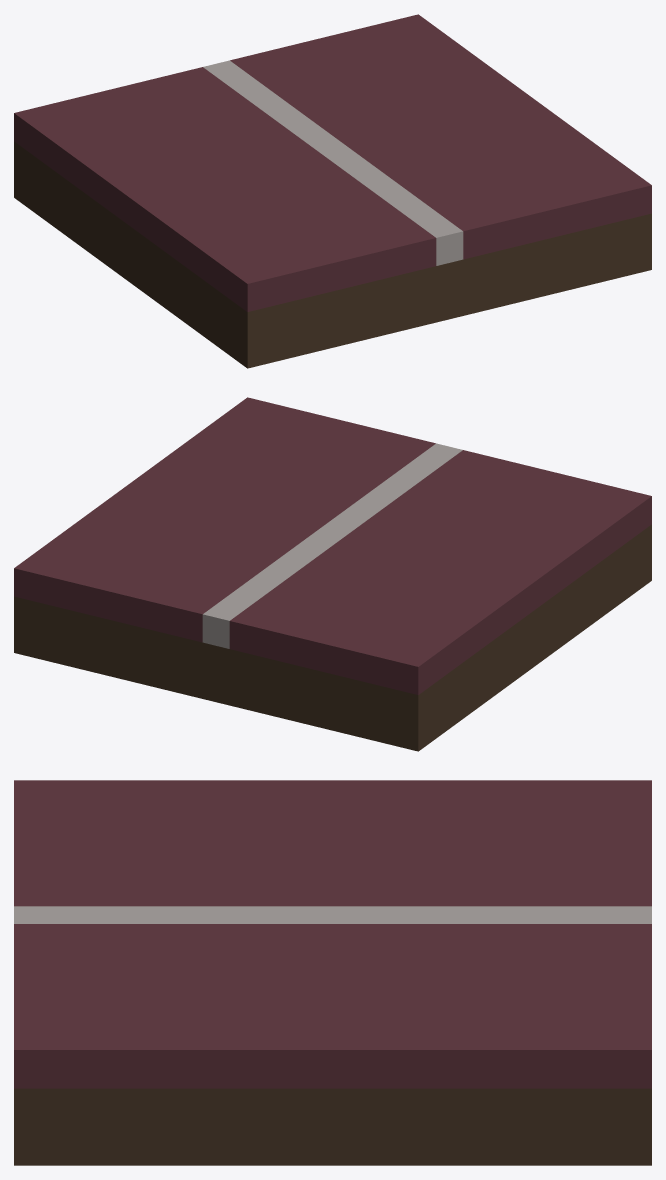
File: tiles-tile-sidewalk-straight.glb
3 views of the same model, one above another, from view 1: azimuth 30°, elevation 25°; view 2: azimuth 150°, elevation 25°; view 3: azimuth 270°, elevation 25° (orthographic). The views are drawn at different scales.
Parts seen in each view (by area): view 1: tile-sidewalk-straight; view 2: tile-sidewalk-straight; view 3: tile-sidewalk-straight.
Boxes of the visible parts, x1,y1,x2,y2 form: tile-sidewalk-straight: (14, 14, 651, 368); tile-sidewalk-straight: (14, 397, 651, 751); tile-sidewalk-straight: (14, 780, 651, 1165).
Size of the model in its own units: 30 by 6 by 30.
